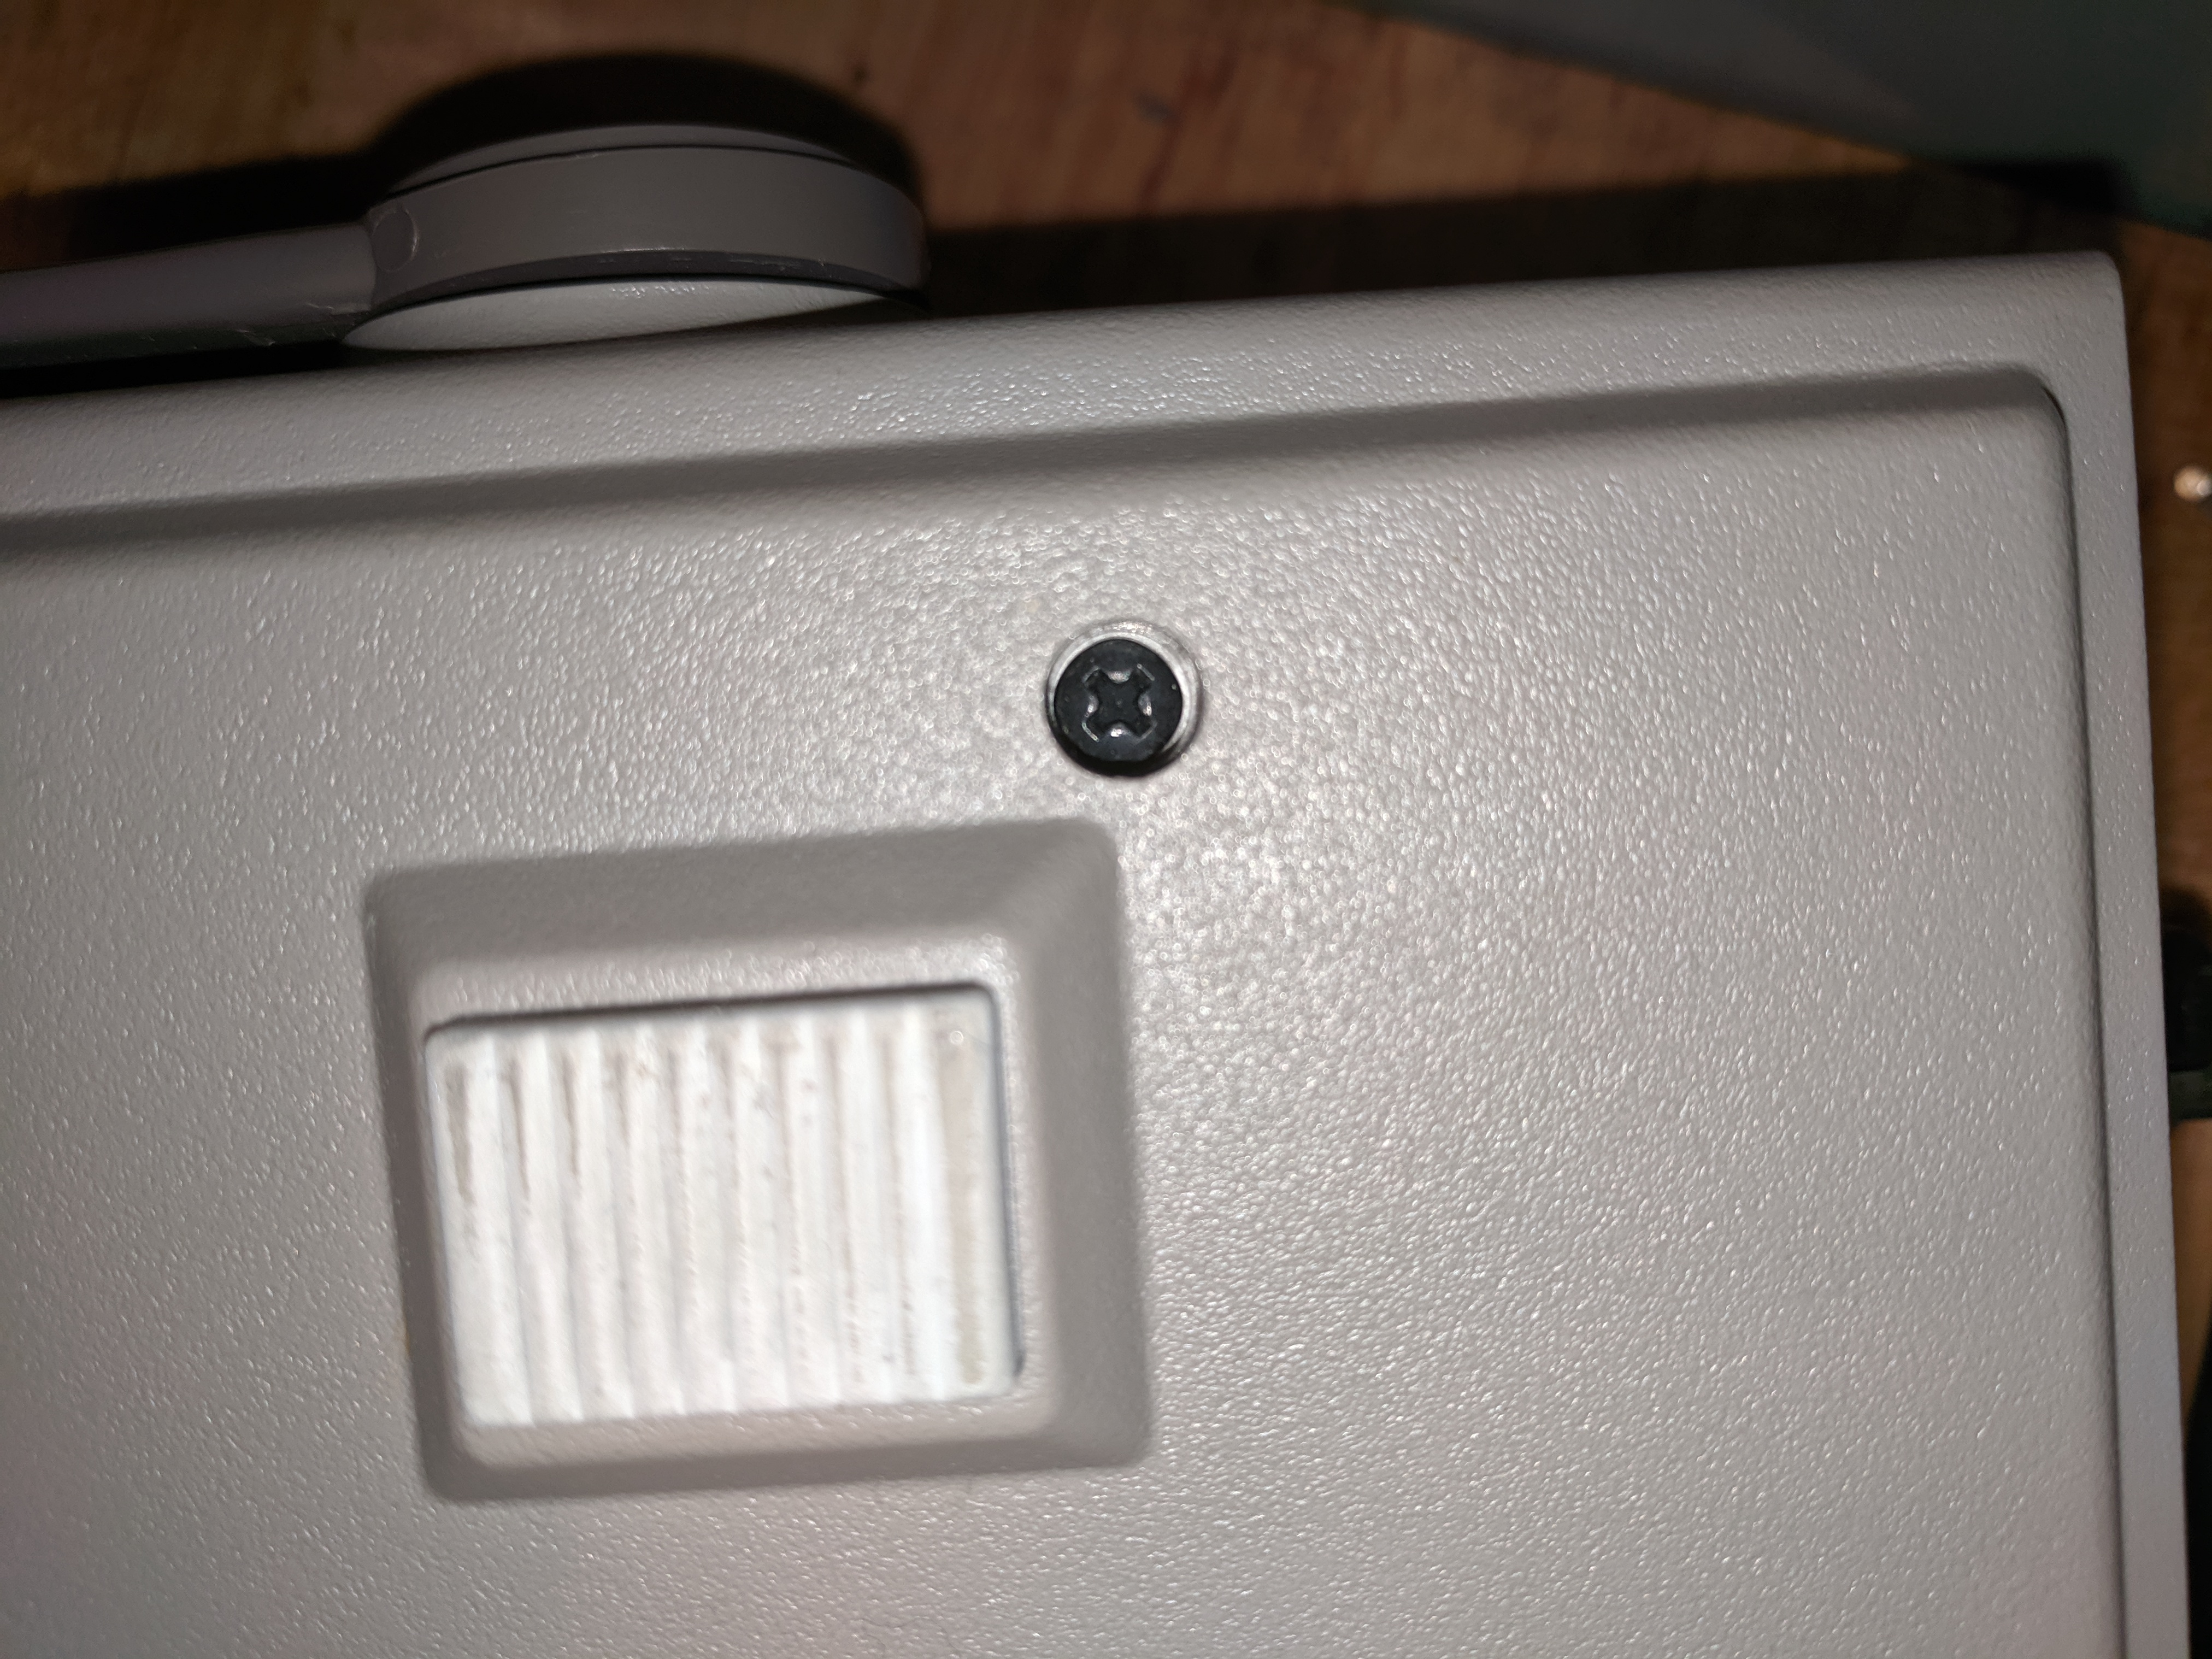cross_recessed_screw: (1038, 626, 1191, 774)
